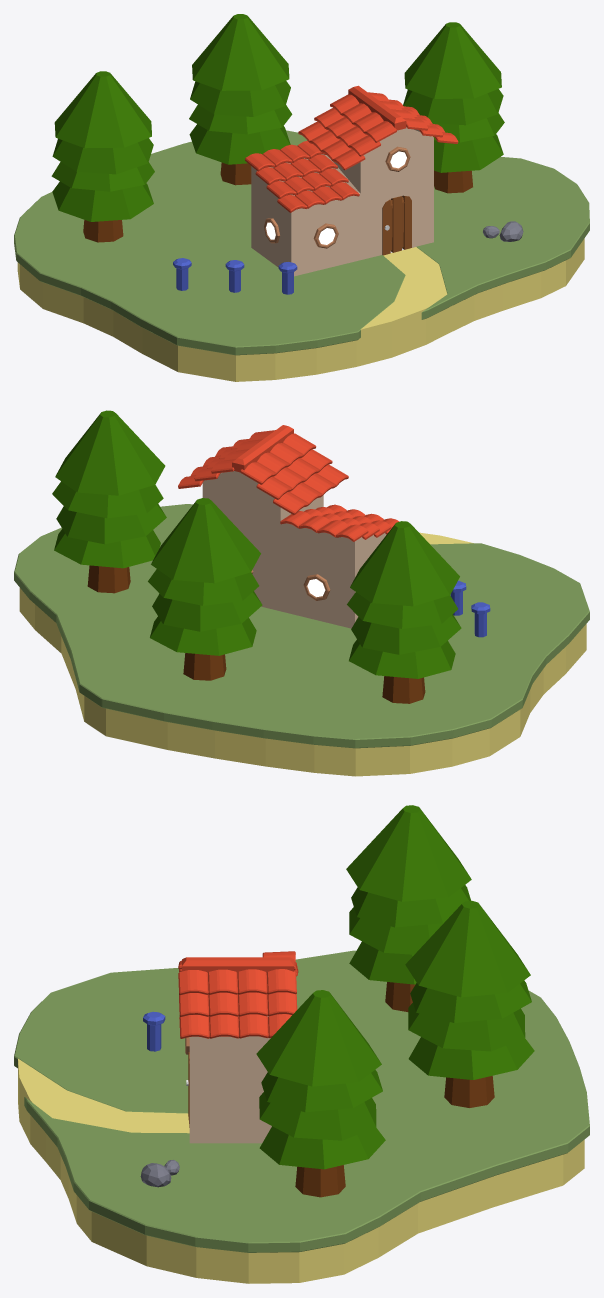
The model's file is Home.fbx.
The picture shows the model from 3 angles, top to bottom: view 1: azimuth 30°, elevation 25°; view 2: azimuth 150°, elevation 25°; view 3: azimuth 270°, elevation 25°; orthographic projection. The views are drawn at different scales.
Visible parts, largest first — view 1: 貝茲曲線.002, 貝茲曲線, 平面, Cylinder, Cylinder.001, Cylinder.002, 立方體, 立方體.001, door, 立方體.002, 屋脊; view 2: 貝茲曲線.002, 貝茲曲線, Cylinder.001, Cylinder, Cylinder.002, 平面, 立方體.001, 立方體, 立方體.002, 屋脊, Cylinder.005; view 3: 貝茲曲線.002, 貝茲曲線, Cylinder.002, Cylinder.001, Cylinder, 平面, 立方體.002, 屋脊, Cylinder.007.
Part boxes in pixels (x1,y1,x2,y2): 貝茲曲線.002: (14, 130, 589, 355); 貝茲曲線: (17, 238, 584, 381); 平面: (251, 127, 433, 276); Cylinder: (51, 71, 154, 242); Cylinder.001: (189, 14, 292, 185); Cylinder.002: (403, 22, 504, 193); 立方體: (245, 140, 359, 212); 立方體.001: (298, 94, 396, 170); door: (382, 195, 411, 255); 立方體.002: (368, 92, 458, 143); 屋脊: (348, 85, 406, 130); 貝茲曲線.002: (14, 504, 589, 748); 貝茲曲線: (19, 532, 586, 776); Cylinder.001: (148, 498, 262, 680); Cylinder: (347, 521, 461, 703); Cylinder.002: (52, 410, 166, 593); 平面: (202, 471, 386, 628); 立方體.001: (240, 433, 348, 514); 立方體: (280, 504, 398, 541); 立方體.002: (178, 430, 275, 488); 屋脊: (232, 425, 293, 472); Cylinder.005: (471, 602, 490, 637); 貝茲曲線.002: (14, 950, 589, 1252); 貝茲曲線: (18, 1058, 584, 1283); Cylinder.002: (256, 990, 385, 1197); Cylinder.001: (405, 900, 534, 1107); Cylinder: (346, 805, 471, 1011); 平面: (189, 1016, 271, 1143); 立方體.002: (178, 969, 297, 1038); 屋脊: (182, 957, 294, 972); Cylinder.007: (143, 1011, 165, 1051).
Bounding box in the file's own units: 2810 × 1066 × 2340.
